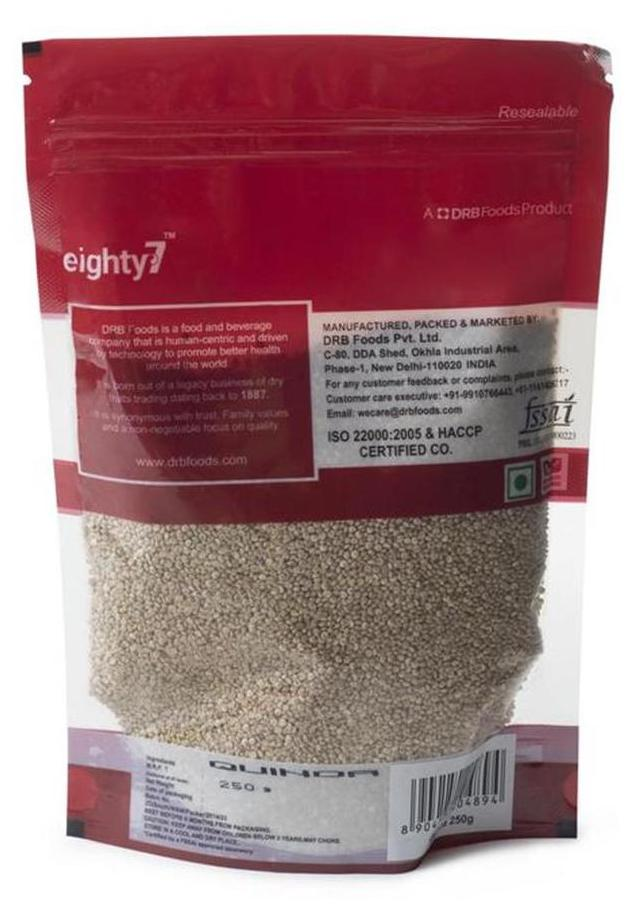fssai: (518, 395, 577, 430)
